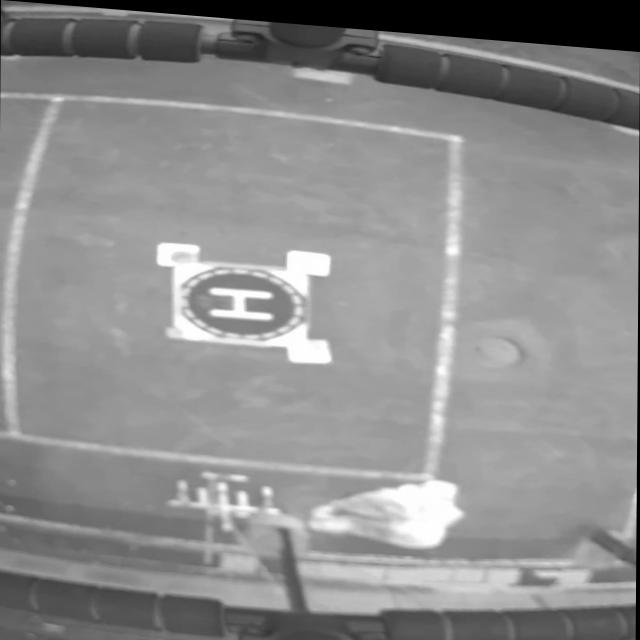Helipad: (208, 284, 273, 318)
